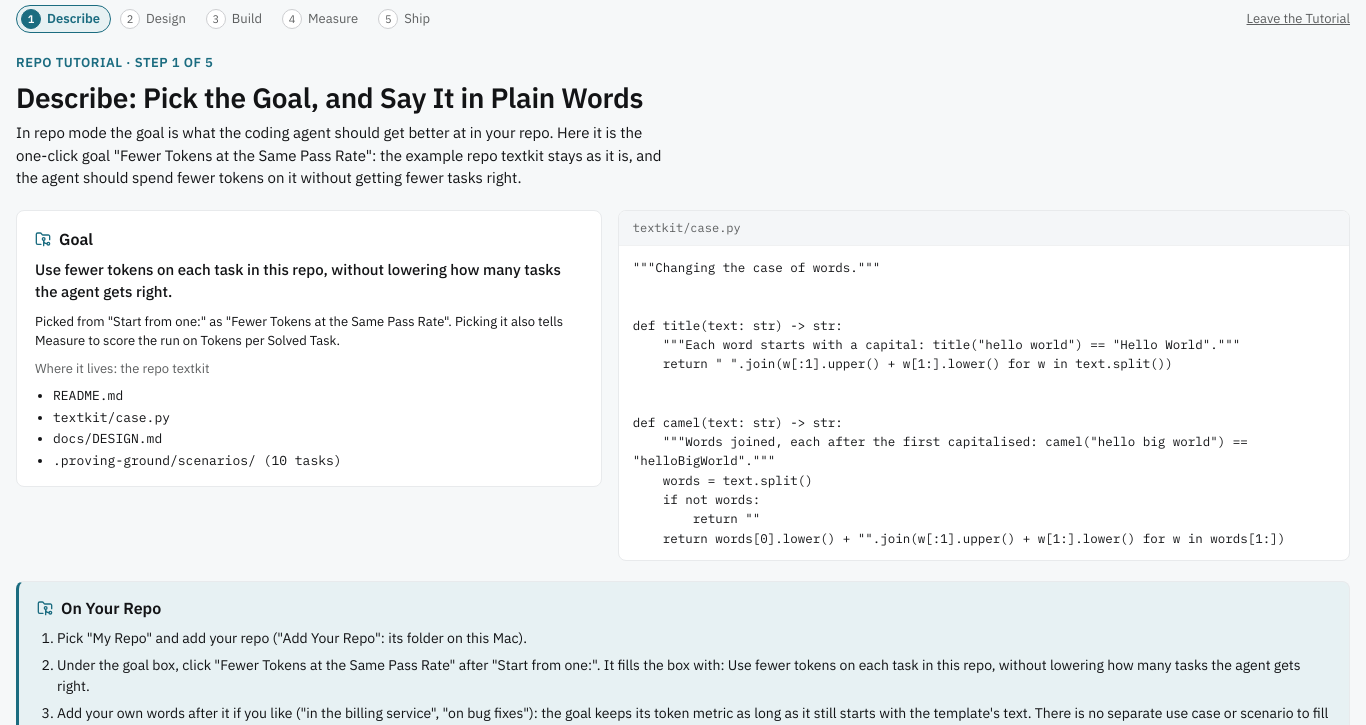
the recorded run shows each task's passes and tokens, the metric with its guard, and the Rig score
The image size is (1366, 725).
Step 1. Click the button with aria-label "4. Measure" → (323, 19), box 277,5 -> 369,33
(page scrolled)
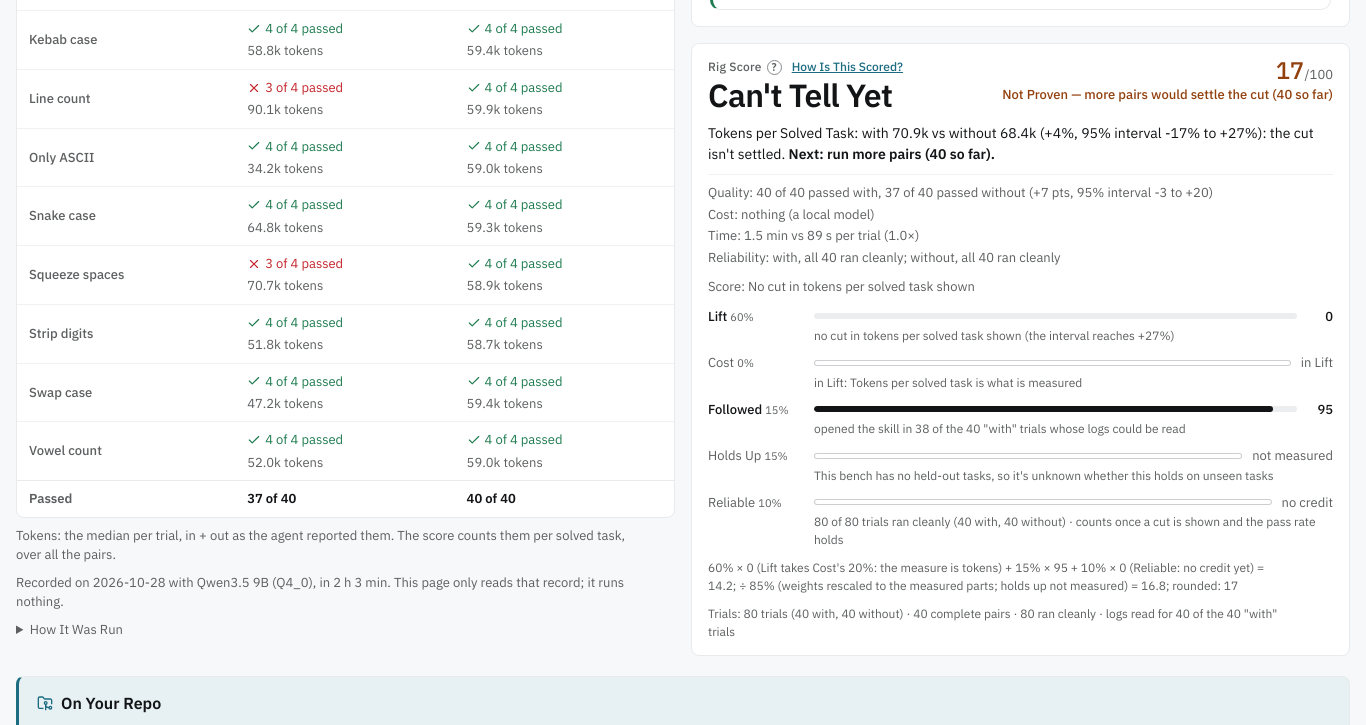
Check: the element named "The Rig Score" shows "/100", box 1305,66 -> 1333,83
